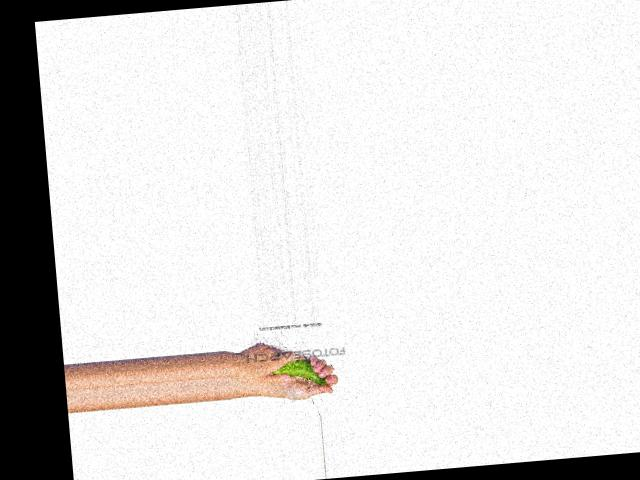cucumber: (269, 356, 327, 389)
